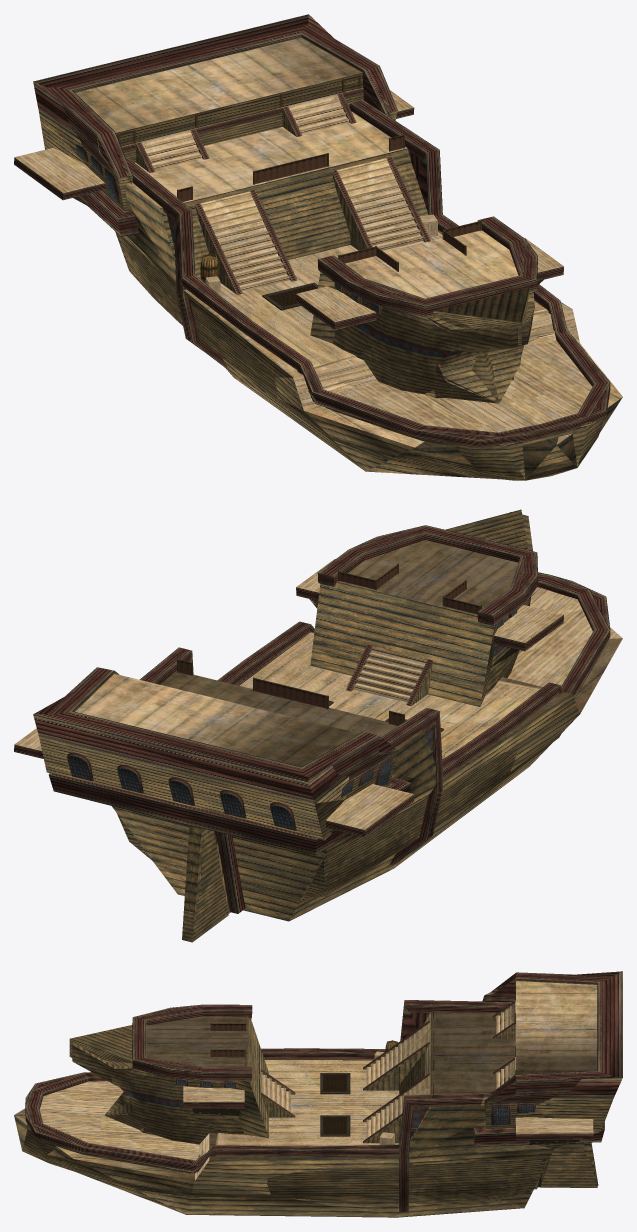
File: pir_m_shp_frg_light.fbx
3 views of the same model, one above another, from view 1: azimuth 30°, elevation 25°; view 2: azimuth 150°, elevation 25°; view 3: azimuth 270°, elevation 25° (orthographic). The views are drawn at different scales.
Parts seen in each view (by area): view 1: deck_cabin_right, hullA_b5, deck1, rail0_right2.001, deck_tower2, cabin_stripeA_1_4.002, hullA, polySurface68.001, polySurface61, stripeA.003, hullB_7, hullC (+44 smaller); view 2: hullA_b5, hullB_7, deck_cabin_right, stripeA.003, cabin_hullB_1_0, polySurface69.002, deck_tower2, rail0_right2.001, cabin_stripeA_3_3, stripeA_tower_0_right1.001, cabin_stripeA_1_4.002, deck1 (+22 smaller); view 3: hullA_b5, deck_cabin_right, polySurface69.002, rail0_right2.001, deck1, hullA_3.001, hullA, deck_tower2, hullB_7, cabin_stripeA_1_4.002, stripeA_tower_0_right1.001, polySurface68.001 (+42 smaller).
Boxes of the visible parts, x1=… form: deck_cabin_right: x1=75, y1=37, x2=362, y2=132; hullA_b5: x1=123, y1=184, x2=622, y2=480; deck1: x1=126, y1=111, x2=407, y2=208; rail0_right2.001: x1=182, y1=214, x2=610, y2=437; deck_tower2: x1=345, y1=230, x2=518, y2=298; cabin_stripeA_1_4.002: x1=49, y1=25, x2=397, y2=178; hullA: x1=148, y1=262, x2=602, y2=480; polySurface68.001: x1=336, y1=354, x2=592, y2=432; polySurface61: x1=261, y1=183, x2=350, y2=259; stripeA.003: x1=33, y1=14, x2=389, y2=170; hullB_7: x1=310, y1=272, x2=529, y2=401; hullC: x1=346, y1=326, x2=522, y2=403; hullA_b5: x1=112, y1=694, x2=579, y2=921; hullB_7: x1=310, y1=509, x2=528, y2=706; deck_cabin_right: x1=75, y1=673, x2=359, y2=766; stripeA.003: x1=33, y1=692, x2=389, y2=803; cabin_hullB_1_0: x1=39, y1=736, x2=389, y2=839; polySurface69.002: x1=239, y1=634, x2=537, y2=757; deck_tower2: x1=337, y1=540, x2=518, y2=615; rail0_right2.001: x1=217, y1=573, x2=610, y2=778; cabin_stripeA_3_3: x1=49, y1=774, x2=316, y2=854; stripeA_tower_0_right1.001: x1=317, y1=525, x2=537, y2=625; cabin_stripeA_1_4.002: x1=49, y1=667, x2=397, y2=776; deck1: x1=160, y1=671, x2=424, y2=750; hullA_b5: x1=14, y1=1106, x2=553, y2=1217; deck_cabin_right: x1=516, y1=981, x2=597, y2=1074; polySurface69.002: x1=218, y1=1060, x2=399, y2=1145; rail0_right2.001: x1=25, y1=1048, x2=399, y2=1172; deck1: x1=431, y1=1011, x2=515, y2=1106; hullA_3.001: x1=23, y1=1143, x2=542, y2=1196; hullA: x1=22, y1=1129, x2=485, y2=1196; deck_tower2: x1=146, y1=1016, x2=248, y2=1066; hullB_7: x1=69, y1=1017, x2=268, y2=1137; cabin_stripeA_1_4.002: x1=484, y1=972, x2=610, y2=1103; stripeA_tower_0_right1.001: x1=132, y1=1004, x2=252, y2=1081; polySurface68.001: x1=40, y1=1081, x2=198, y2=1156.
Size of the model in its own units: 7001 by 3916 by 13316.
Materials: 2 (2 with a texture image).
